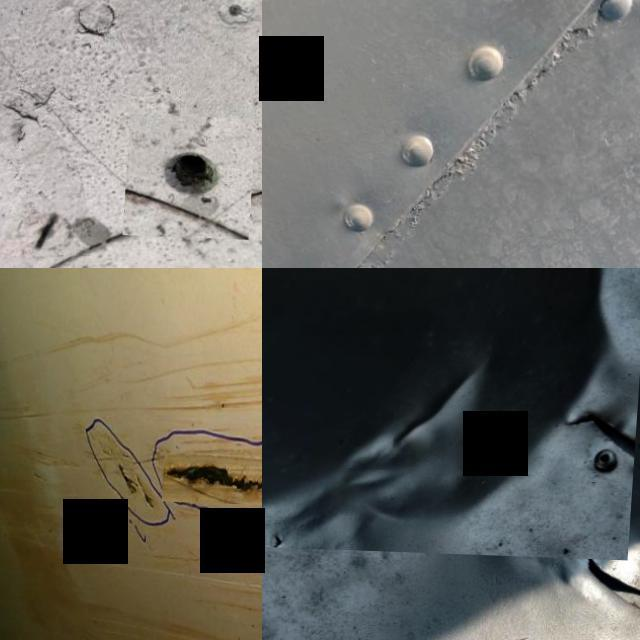Crack: (565, 531, 640, 640), (262, 375, 334, 464), (169, 461, 262, 493), (120, 459, 163, 510)
Dent: (262, 268, 640, 557)
Missing_Fastener: (129, 112, 261, 237)
